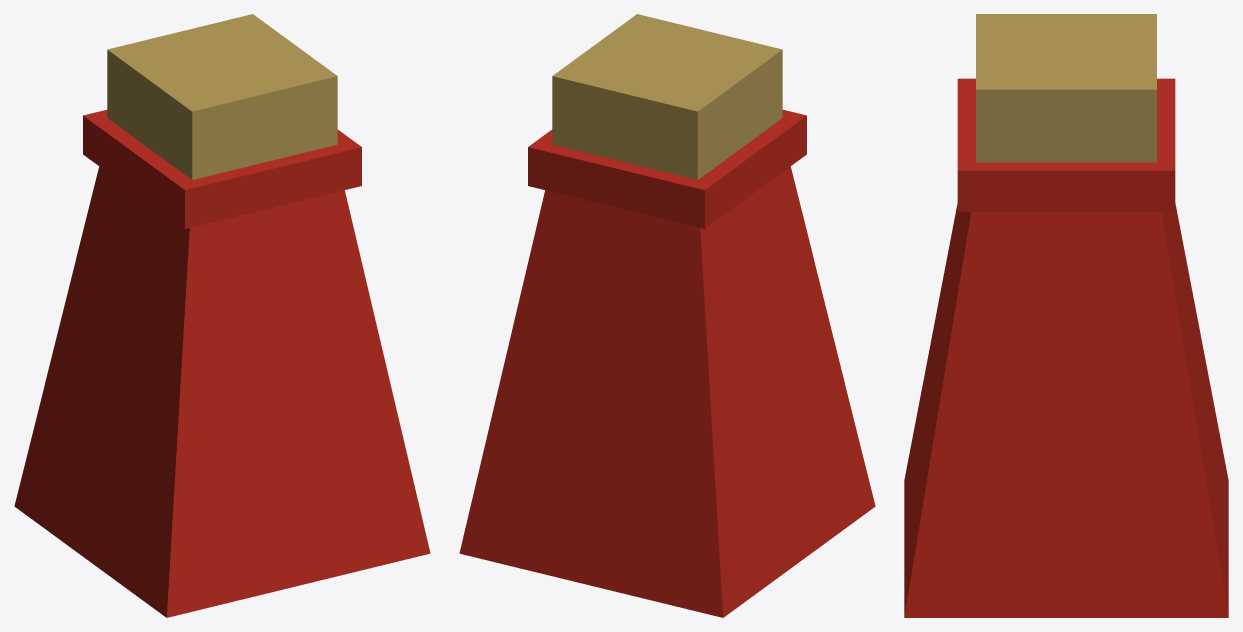
The model's file is MinorPotion_Health.fbx.
3 views of the same model, side by side, from view 1: azimuth 30°, elevation 25°; view 2: azimuth 150°, elevation 25°; view 3: azimuth 270°, elevation 25° (orthographic). The views are drawn at different scales.
Parts seen in each view (by area): view 1: MinorPotion_Health; view 2: MinorPotion_Health; view 3: MinorPotion_Health.
Boxes of the visible parts, x1,y1,x2,y2 form: MinorPotion_Health: (14, 14, 430, 617); MinorPotion_Health: (459, 14, 875, 617); MinorPotion_Health: (904, 14, 1228, 617).
Size of the model in its own units: 241 by 408 by 241.
